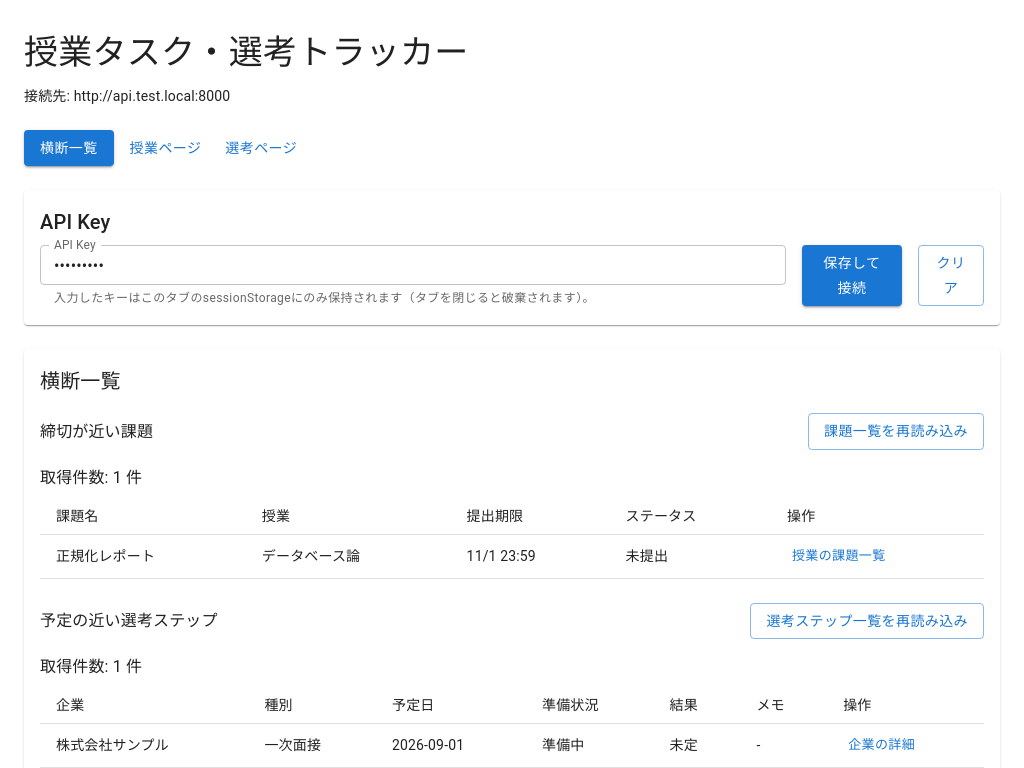
Test case: 横断一覧からの画面遷移 › 選考ステップの「企業の詳細」から、対応する企業の詳細画面へ辿れる
The width and height of the screenshot is (1024, 768).
Expected: the text "一次面接" is shown, top-left (248, 724), bottom-right (376, 767)
Click the link with aria-label "企業「株式会社サンプル」の詳細へ": click(882, 744) top-left (848, 737), bottom-right (915, 752)
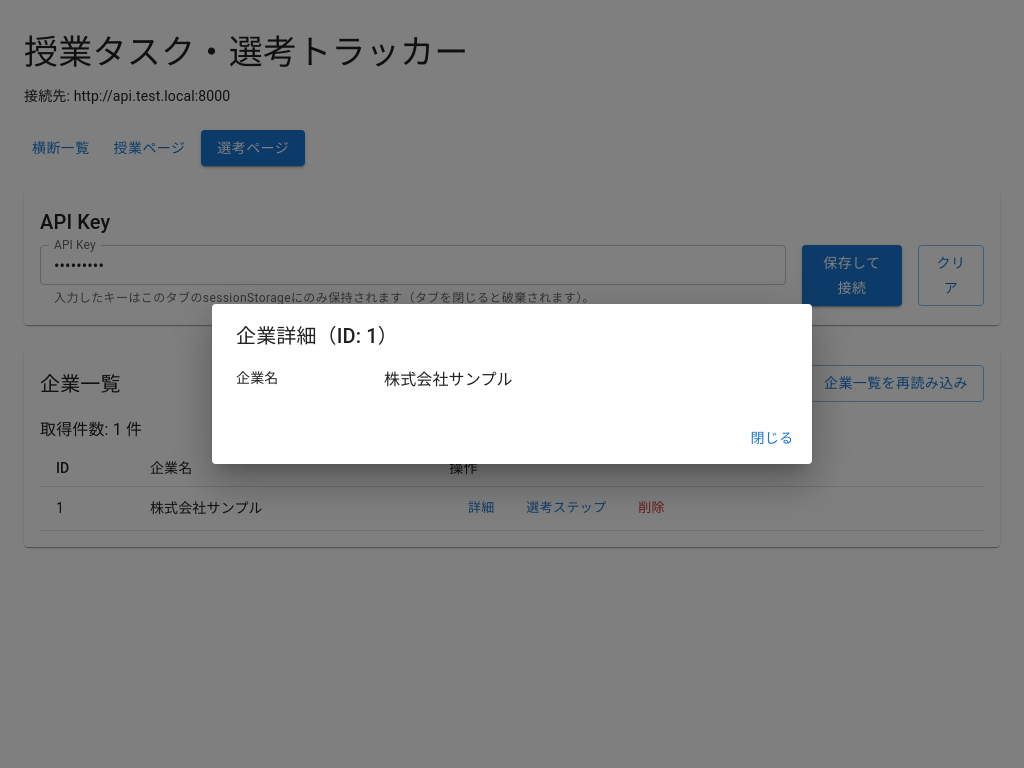
Expected: the heading "企業詳細（ID: 1）" is shown, top-left (236, 324), bottom-right (398, 348)
Expected: the text "株式会社サンプル" is shown, top-left (384, 368), bottom-right (513, 392)
